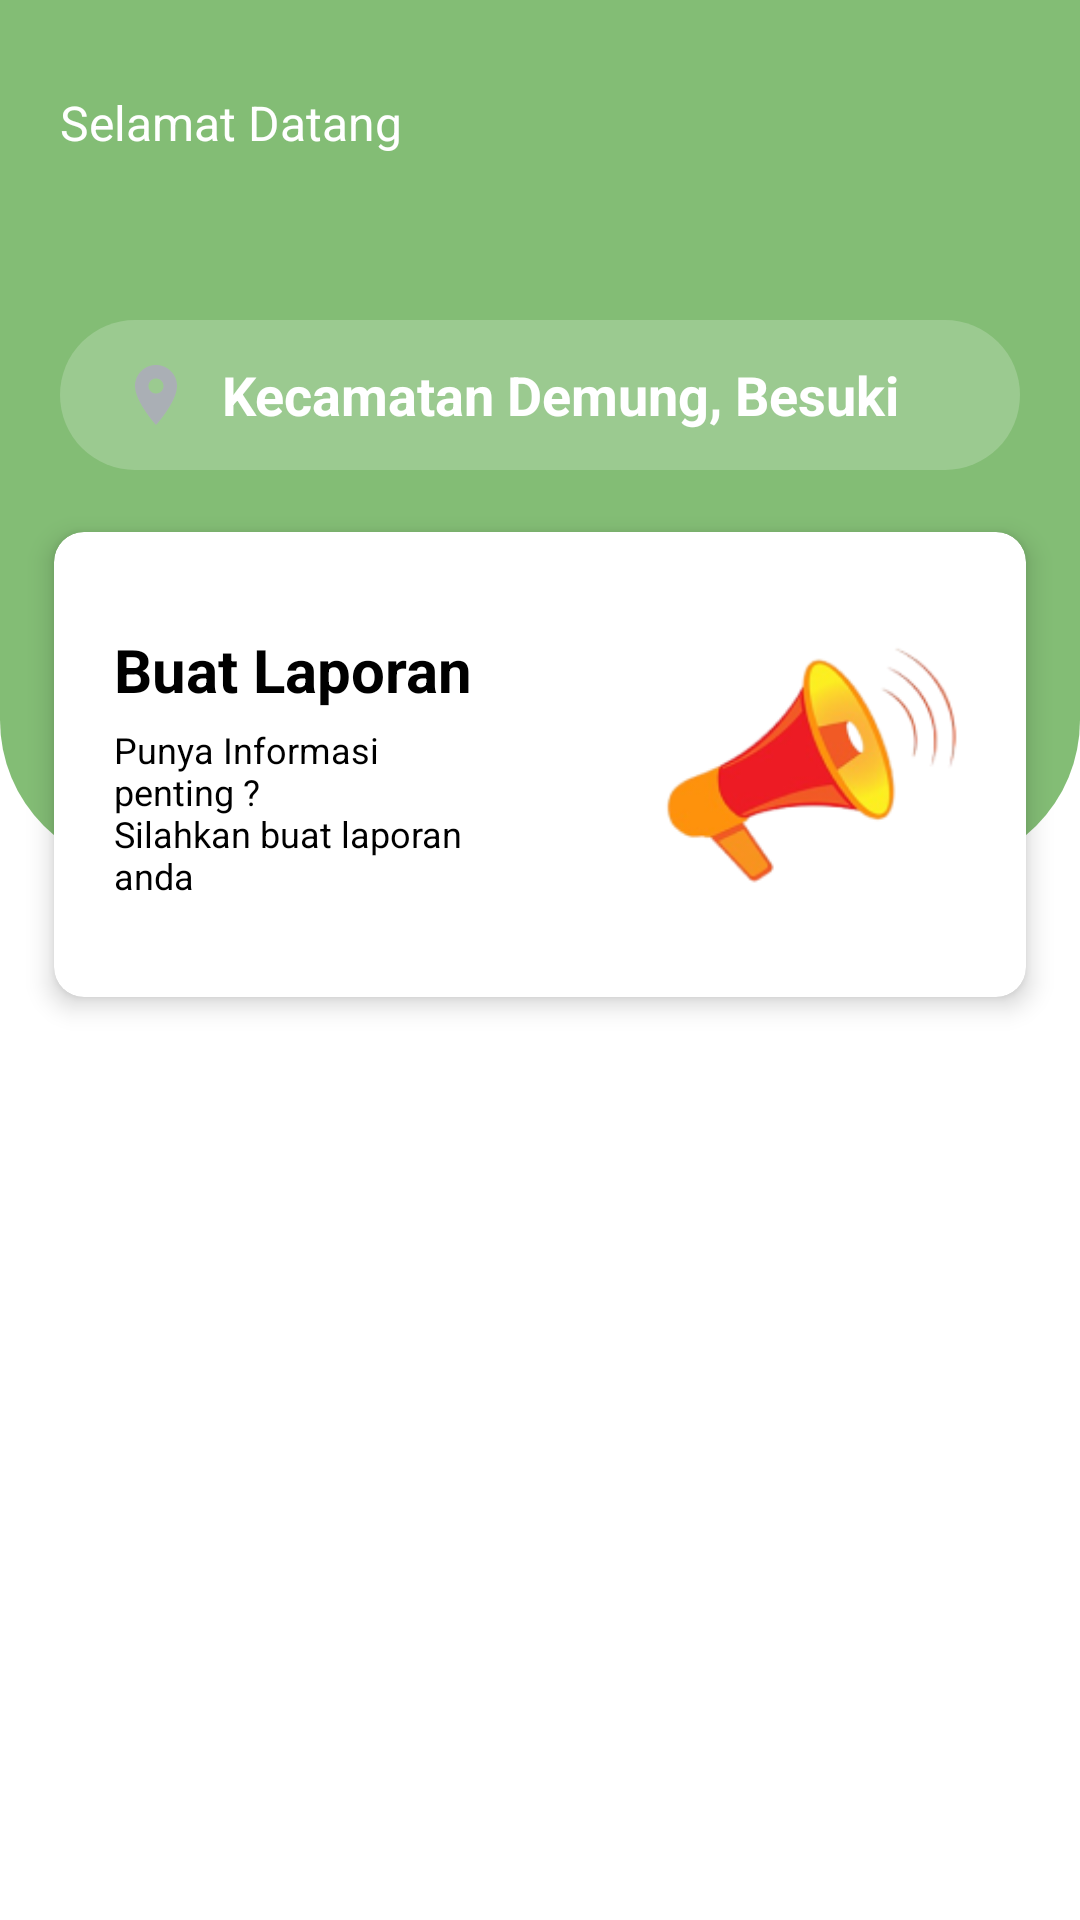

Where to tap for icons on this 1080 × 1920 app screen, as (x=x, y=y):
location: (x=156, y=394)
